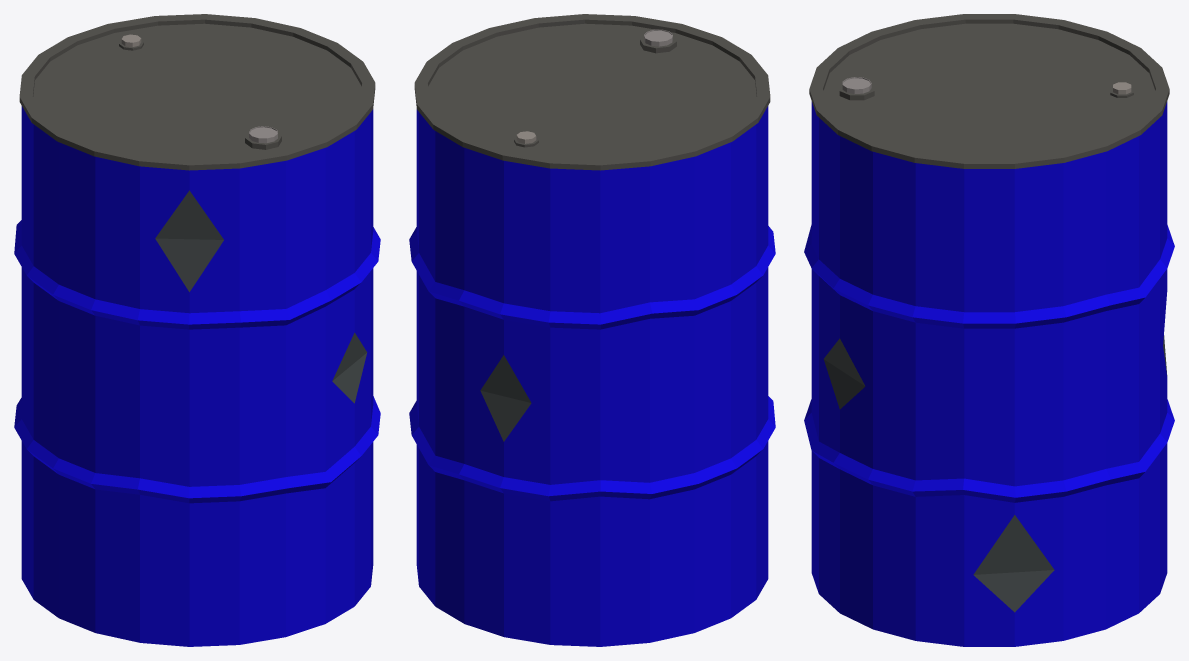
The model's file is SM_Barrel_Closed_01_B.gltf.
3 renders of one model, left to right at view 1: azimuth 30°, elevation 25°; view 2: azimuth 150°, elevation 25°; view 3: azimuth 270°, elevation 25°, orthographic.
Parts seen in each view (by area): view 1: SM_Barrel_Closed_01_B; view 2: SM_Barrel_Closed_01_B; view 3: SM_Barrel_Closed_01_B.
Boxes of the visible parts, bbox=[...] form: SM_Barrel_Closed_01_B: bbox=[14, 14, 380, 646]; SM_Barrel_Closed_01_B: bbox=[409, 14, 775, 646]; SM_Barrel_Closed_01_B: bbox=[804, 14, 1174, 646].
Size of the model in its own units: 0.6081 by 0.9 by 0.6177.
